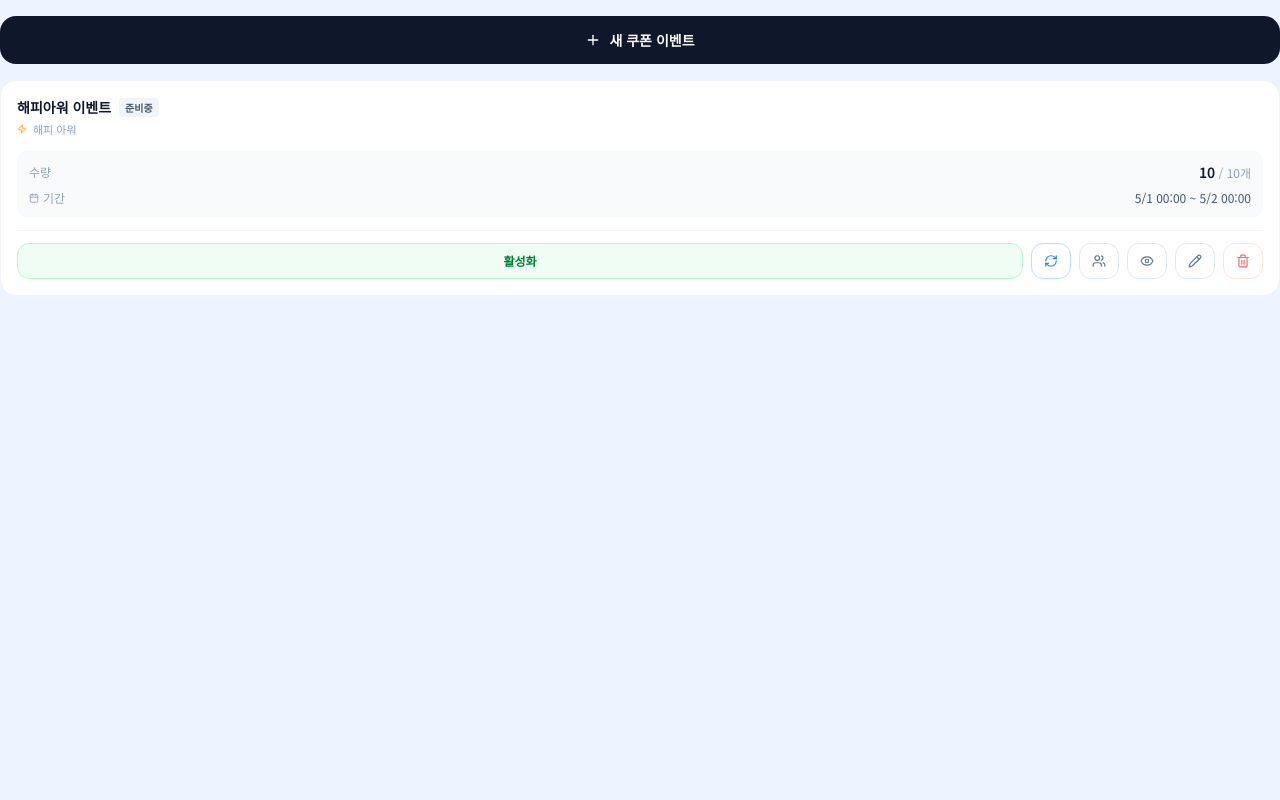
Test: CouponEventsTab › 삭제 취소 시 모달 닫힘
The width and height of the screenshot is (1280, 800).
Expected: the text "해피아워 이벤트" is shown, top-left (17, 97), bottom-right (111, 117)
Click the button named "삭제". click: click(1243, 260)
box: top-left (1223, 242), bottom-right (1263, 278)
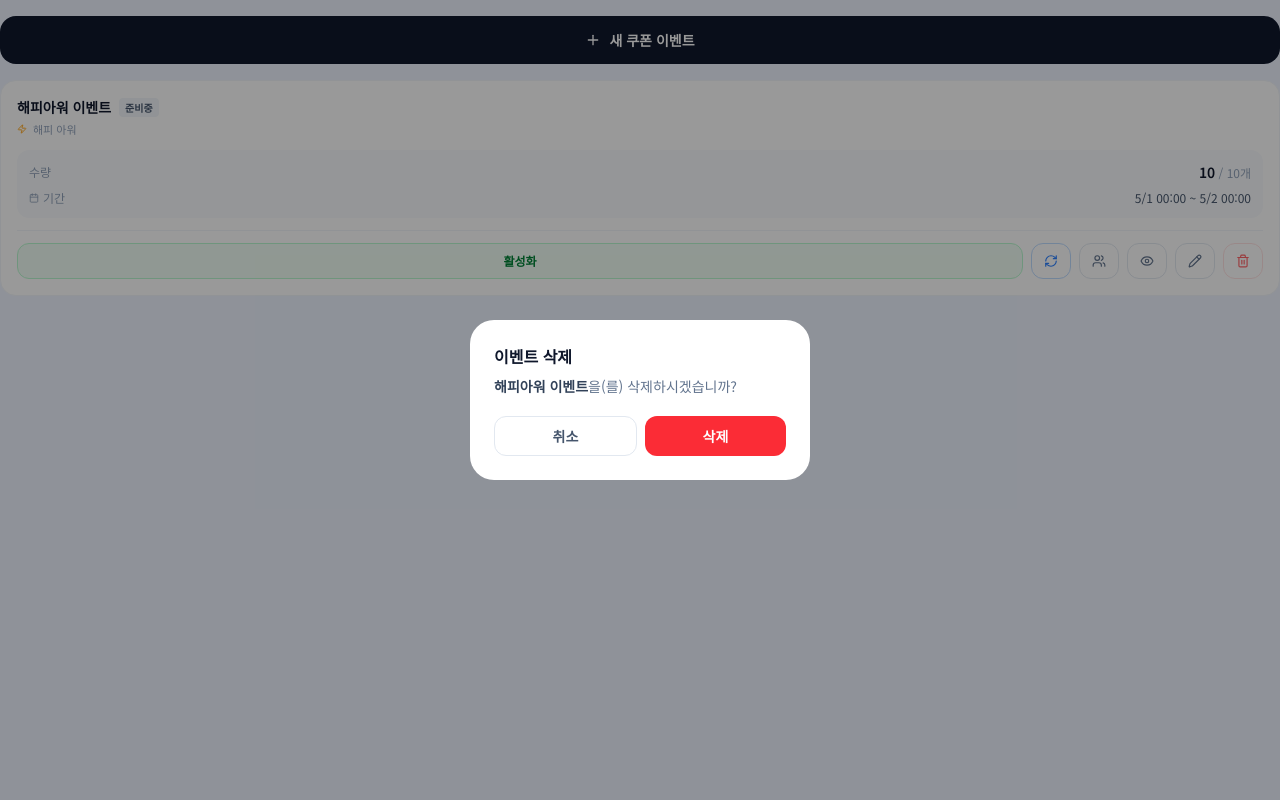
Expected: the heading "이벤트 삭제" is shown, top-left (494, 344), bottom-right (572, 368)
Click the button "취소". click: click(566, 436)
box: top-left (494, 416), bottom-right (637, 456)
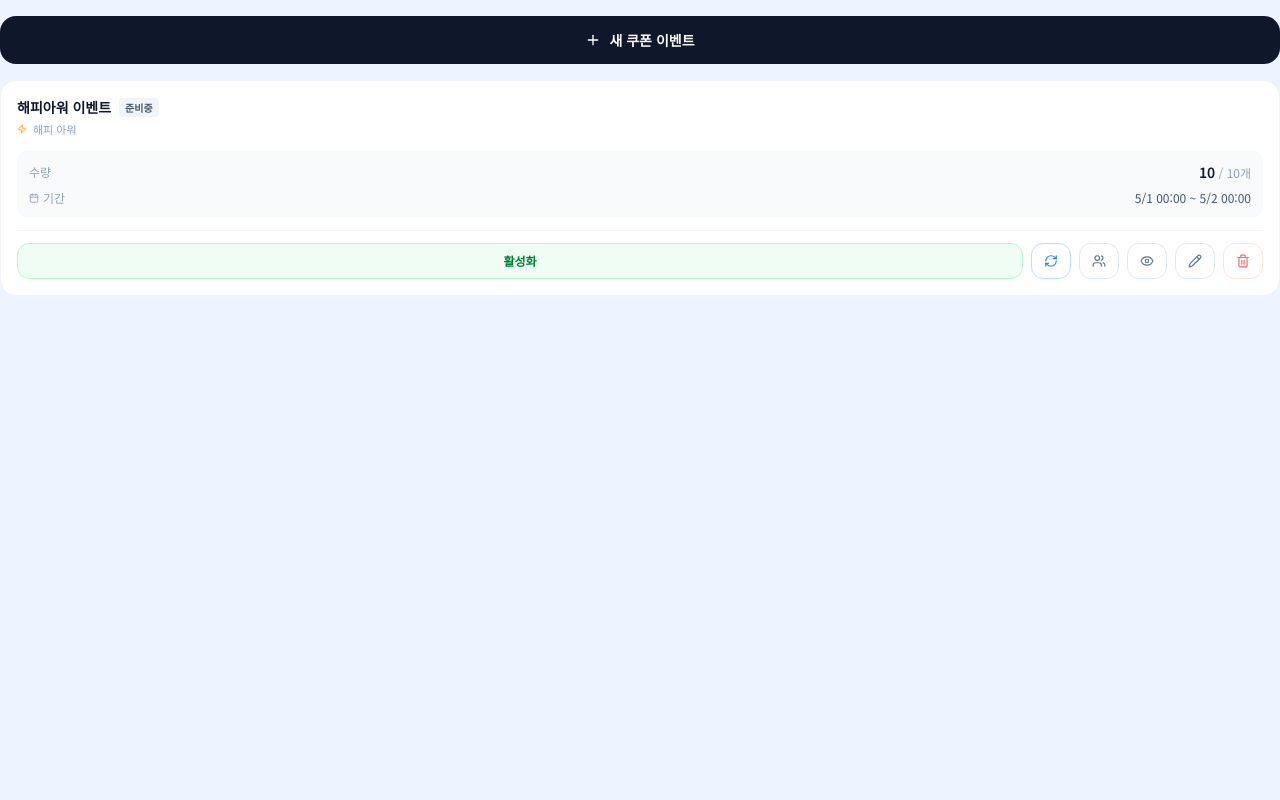
Expected: the heading "이벤트 삭제" is gone
